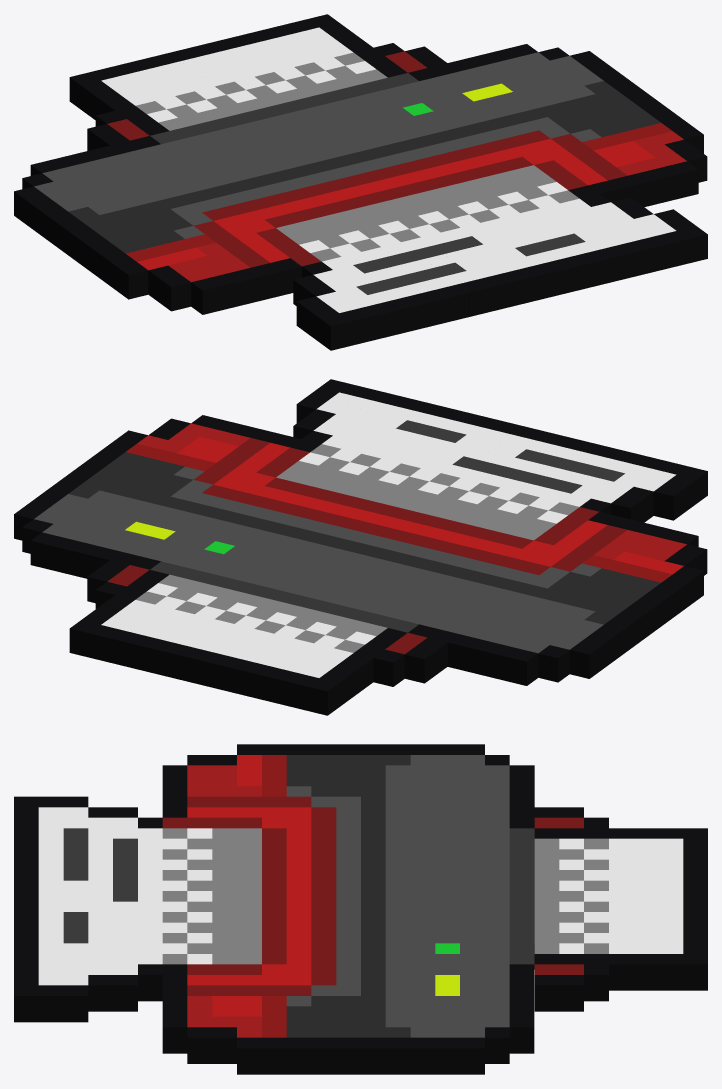
The picture shows the model from 3 angles, top to bottom: view 1: azimuth 30°, elevation 25°; view 2: azimuth 150°, elevation 25°; view 3: azimuth 270°, elevation 25°; orthographic projection. The views are drawn at different scales.
Visible parts, largest first — view 1: Curve.001; view 2: Curve.001; view 3: Curve.001.
Boxes of the visible parts, box(x1,y1,x2,y2) form: Curve.001: box(14, 14, 707, 350); Curve.001: box(14, 379, 707, 715); Curve.001: box(14, 744, 707, 1074).
Bounding box in the file's own units: 0.2473 × 0.01 × 0.2388.
